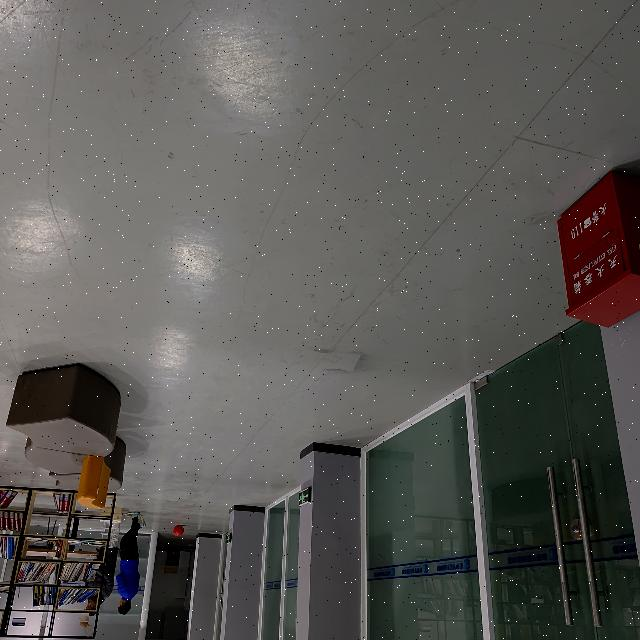R: (170, 524, 183, 536)
